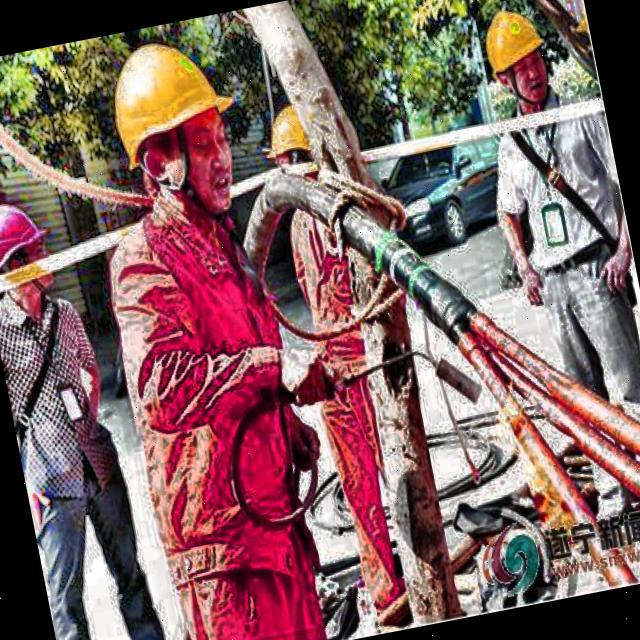helmet: (93, 18, 249, 240), (471, 0, 564, 118), (0, 194, 58, 299), (261, 100, 323, 190)
